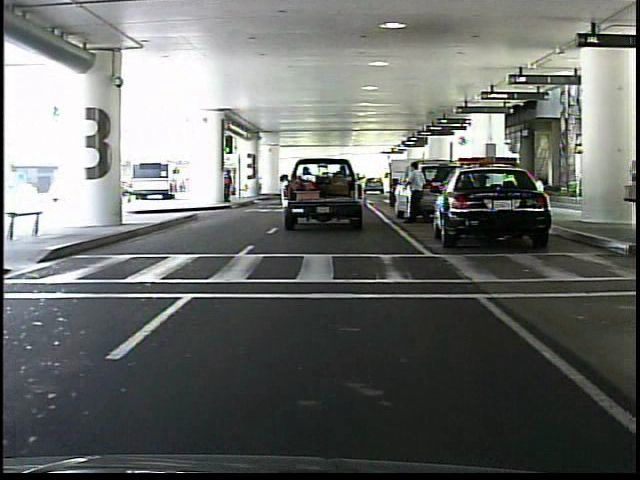person: (619, 146, 639, 240), (405, 158, 429, 226), (223, 162, 237, 204)
